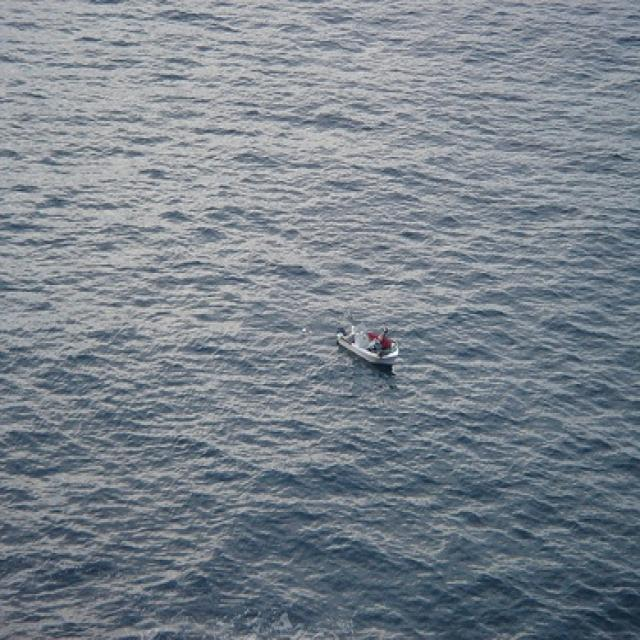boat: (332, 312, 399, 370)
